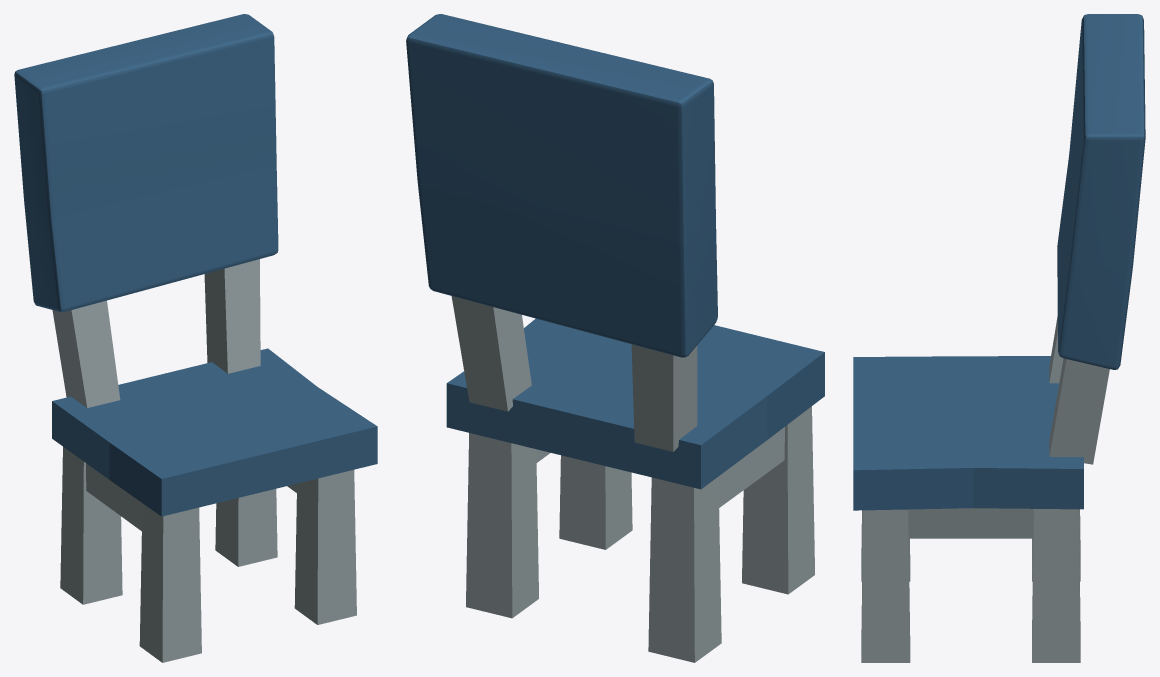
Rendered from ChairKitchen.fbx.
The picture shows the model from 3 angles, left to right: view 1: azimuth 30°, elevation 25°; view 2: azimuth 150°, elevation 25°; view 3: azimuth 270°, elevation 25°; orthographic projection. The views are drawn at different scales.
Parts seen in each view (by area): view 1: chair-wood; view 2: chair-wood; view 3: chair-wood.
Part boxes in pixels (<box>): chair-wood: <box>14,14,377,662</box>; chair-wood: <box>406,14,824,662</box>; chair-wood: <box>853,14,1145,662</box>.
Bounding box in the file's own units: 65.88 × 134 × 65.69.
